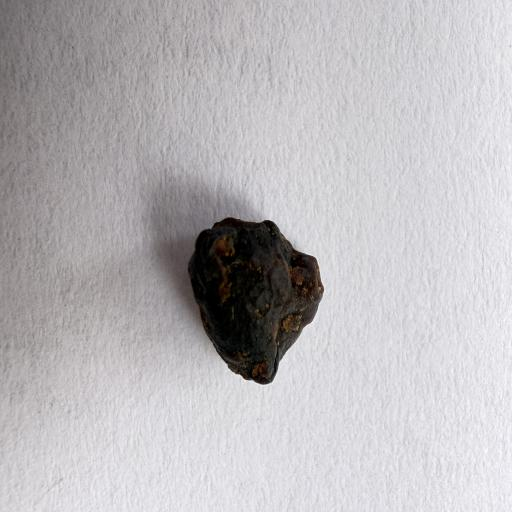Black_pepper: (190, 187, 328, 411)
